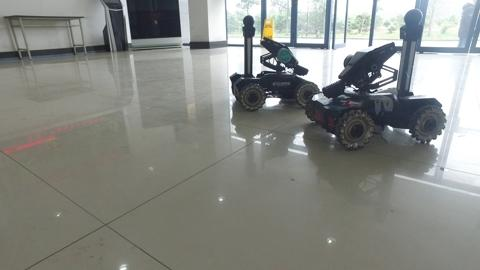chariot: (299, 5, 454, 151), (218, 15, 321, 113)
